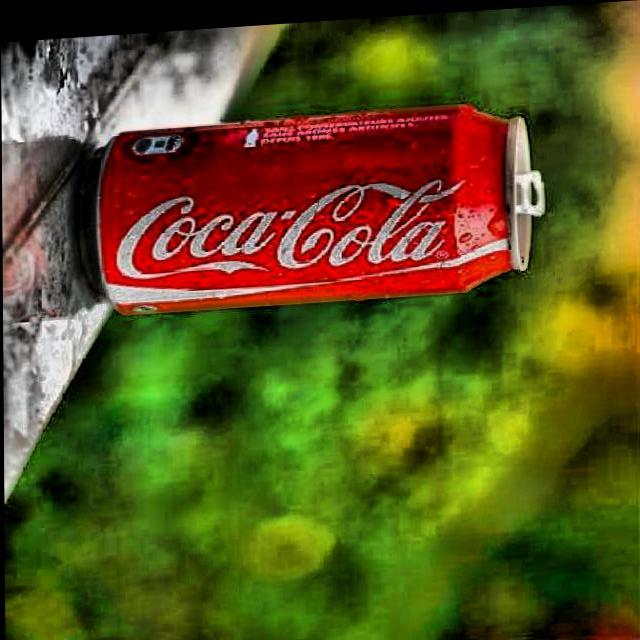Aluminum Can: (74, 98, 548, 311)
